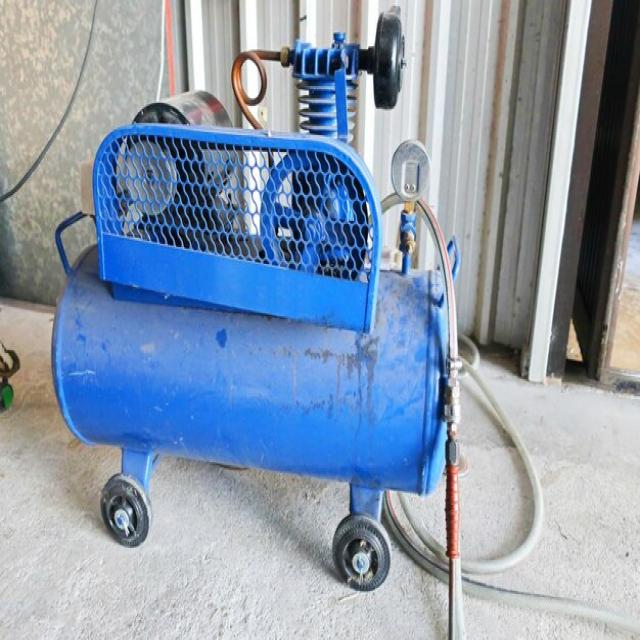compressor: (42, 12, 510, 585)
